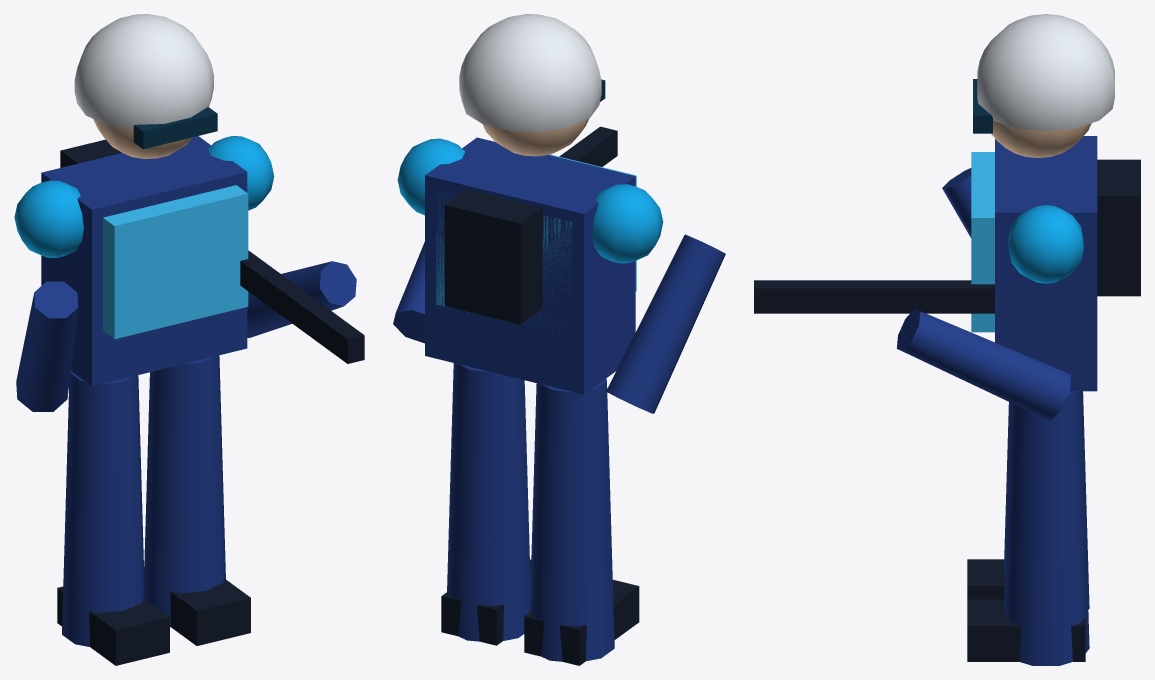
Rendered from friendly.glb.
The picture shows the model from 3 angles, left to right: view 1: azimuth 30°, elevation 25°; view 2: azimuth 150°, elevation 25°; view 3: azimuth 270°, elevation 25°; orthographic projection. The views are drawn at different scales.
Visible parts, largest first — view 1: FriendlyOperator; view 2: FriendlyOperator; view 3: FriendlyOperator.
Boxes of the visible parts, x1,y1,x2,y2 form: FriendlyOperator: [14, 14, 364, 665]; FriendlyOperator: [393, 14, 725, 665]; FriendlyOperator: [754, 14, 1140, 665].
Size of the model in its own units: 0.8747 by 1.7 by 0.98.
